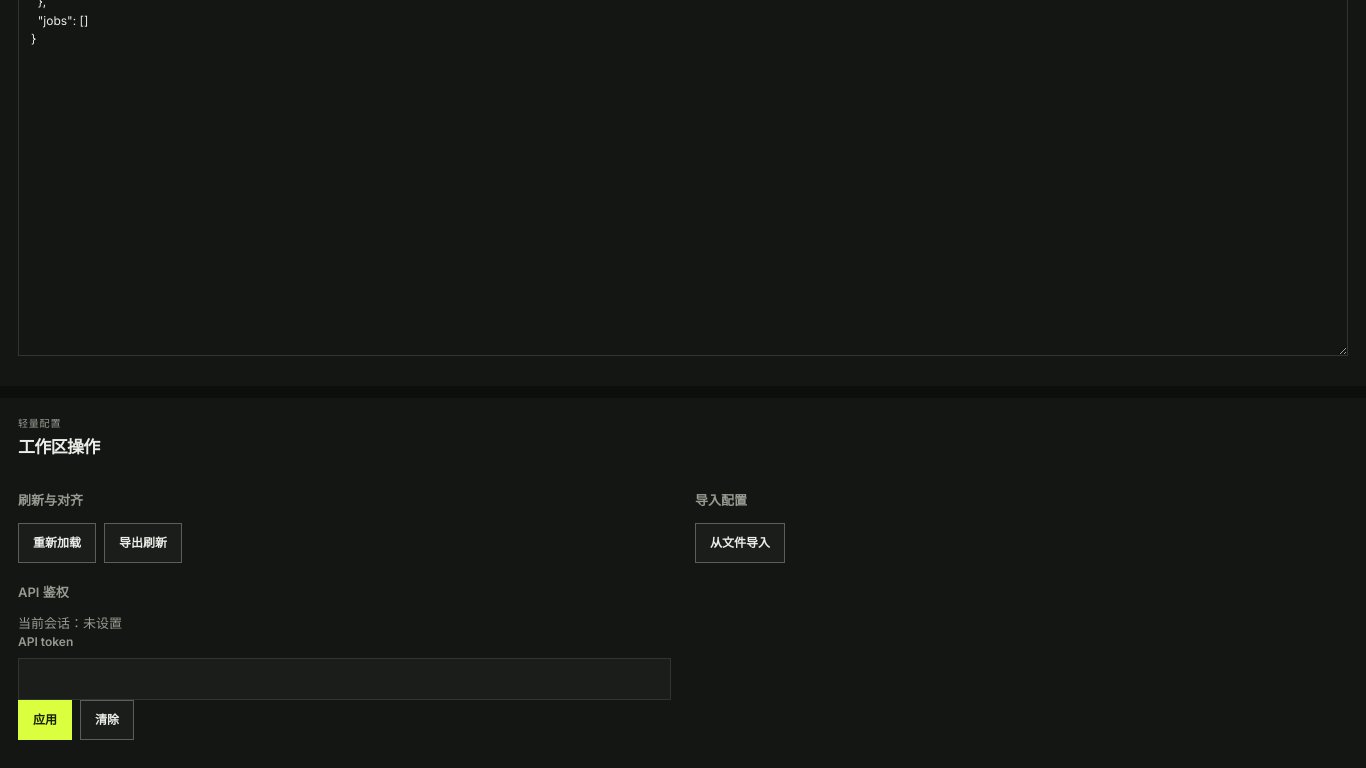
Test: SettingsPage › applies an API token for the current session without displaying it
(page scrolled)
Type "secret-token" into the password field named "api-token-input" at (344, 679), box [18,658,671,700]
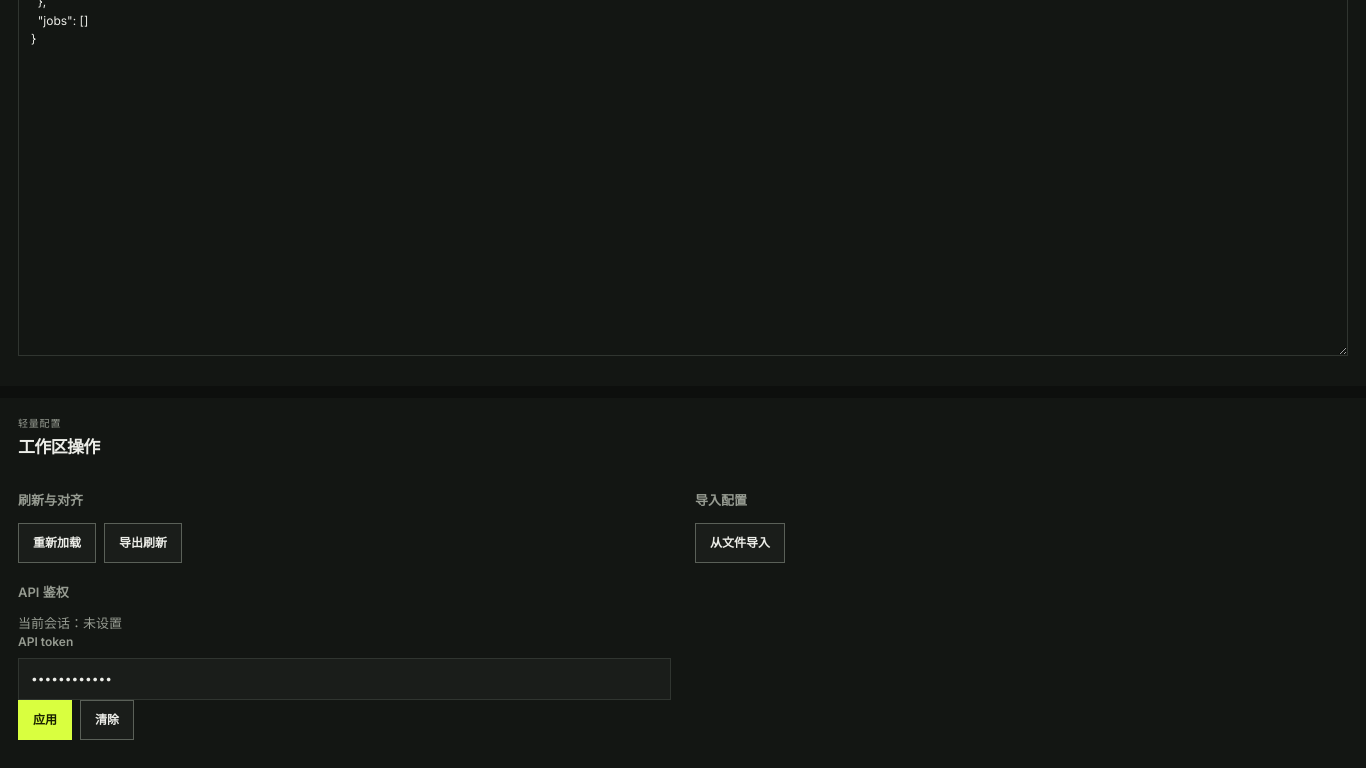
Click the button with aria-label "apply-api-token" at (45, 720), box [18,700,72,740]
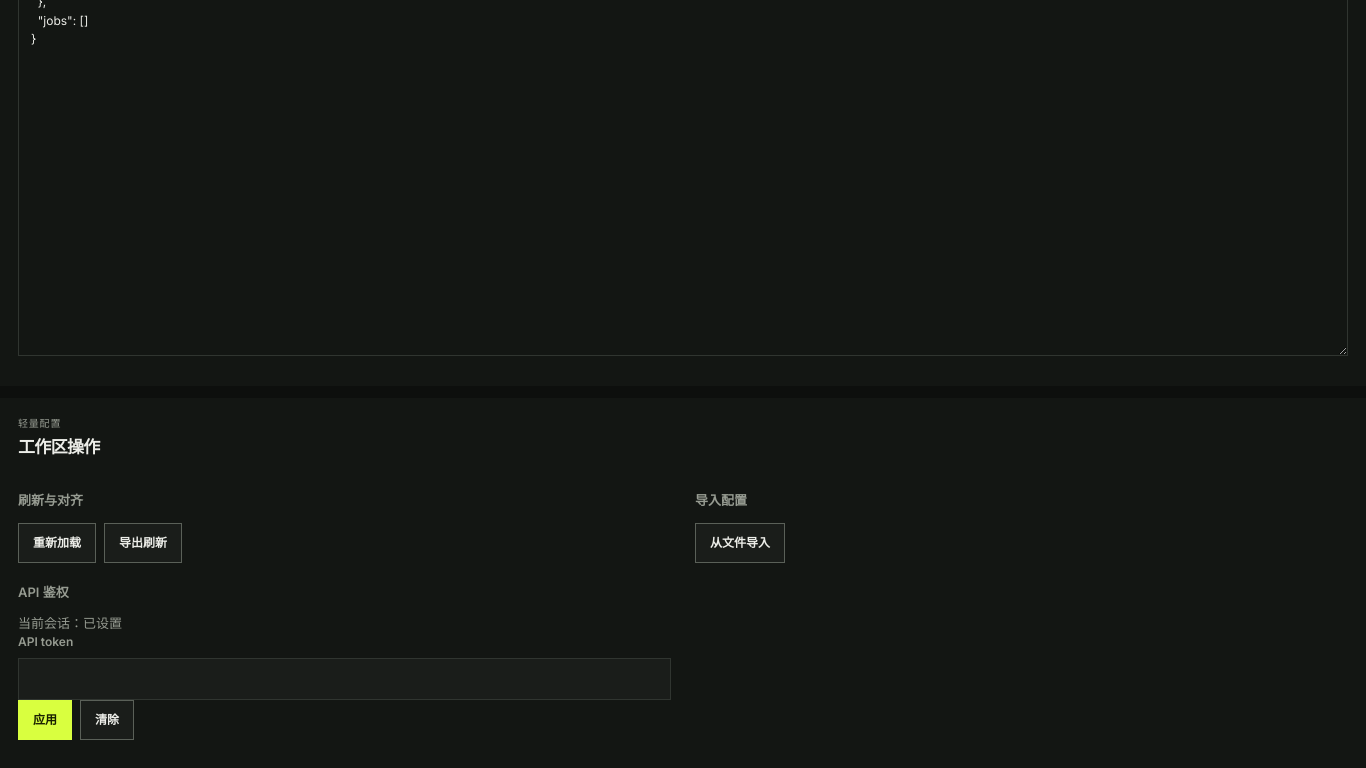
Expected: the password field named "api-token-input" is empty, [18,658,671,700]
Expected: the text with test id "api-token-session-status" shows "已设置", [18,615,122,631]
